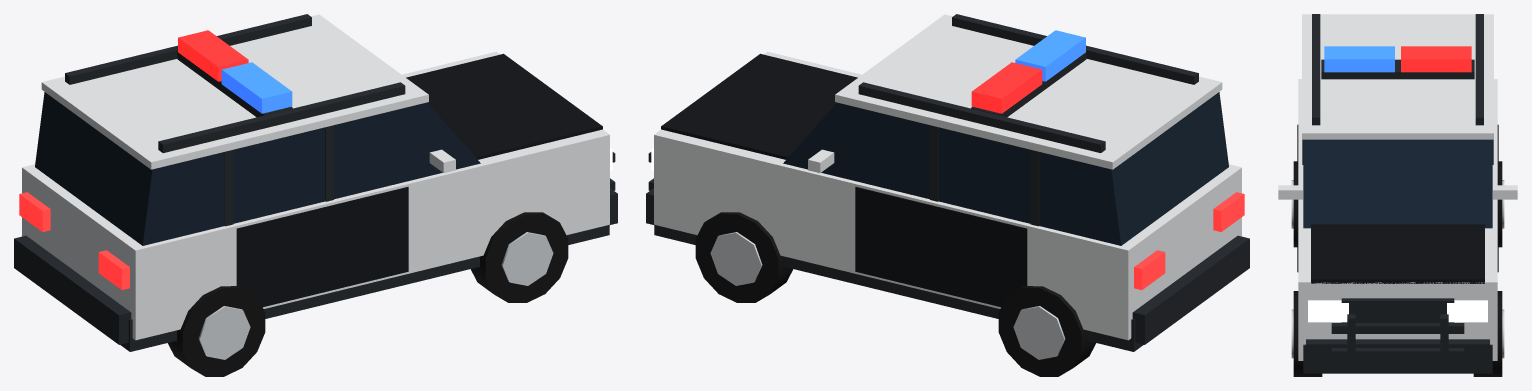
The model's file is police-suv.glb.
The picture shows the model from 3 angles, left to right: view 1: azimuth 30°, elevation 25°; view 2: azimuth 150°, elevation 25°; view 3: azimuth 270°, elevation 25°; orthographic projection. The views are drawn at different scales.
Parts seen in each view (by area): view 1: Body, Cabin, Roof, DoorPanel, Wheel (×2), HoodPanel, RoofRail (×2), Lightbar, Bumper, Skirt, Taillight (×2), Pillar (×2) (+1 smaller); view 2: Body, Cabin, Roof, DoorPanel, Wheel (×2), HoodPanel, RoofRail (×2), Lightbar, Bumper, Skirt, Taillight (×2), Pillar (×2) (+1 smaller); view 3: Roof, Cabin, HoodPanel, Body, Lightbar, Bumper, Police_SUV, Grille, Wheel (×4), RoofRail (×2), Headlight (×2), Skirt (+1 smaller).
Boxes of the visible parts, x1=… form: Body: x1=22, y1=51, x2=609, y2=340; Cabin: x1=35, y1=92, x2=480, y2=245; Roof: x1=41, y1=14, x2=428, y2=169; DoorPanel: x1=236, y1=187, x2=408, y2=306; Wheel (×2): x1=168, y1=212, x2=568, y2=376; HoodPanel: x1=406, y1=53, x2=602, y2=159; RoofRail (×2): x1=65, y1=14, x2=405, y2=152; Lightbar: x1=177, y1=30, x2=292, y2=117; Bumper: x1=14, y1=235, x2=131, y2=344; Skirt: x1=120, y1=225, x2=609, y2=351; Taillight (×2): x1=19, y1=192, x2=129, y2=289; Pillar (×2): x1=224, y1=125, x2=333, y2=226; Body: x1=654, y1=51, x2=1241, y2=340; Cabin: x1=783, y1=92, x2=1228, y2=245; Roof: x1=835, y1=14, x2=1222, y2=169; DoorPanel: x1=855, y1=187, x2=1027, y2=306; Wheel (×2): x1=695, y1=212, x2=1095, y2=376; HoodPanel: x1=661, y1=53, x2=857, y2=159; RoofRail (×2): x1=858, y1=14, x2=1198, y2=152; Lightbar: x1=971, y1=30, x2=1086, y2=117; Bumper: x1=1132, y1=235, x2=1249, y2=344; Skirt: x1=654, y1=225, x2=1143, y2=351; Taillight (×2): x1=1134, y1=192, x2=1244, y2=289; Pillar (×2): x1=930, y1=125, x2=1039, y2=226; Roof: x1=1302, y1=14, x2=1493, y2=139; Cabin: x1=1303, y1=139, x2=1492, y2=228; HoodPanel: x1=1311, y1=224, x2=1484, y2=283; Body: x1=1298, y1=79, x2=1497, y2=360; Lightbar: x1=1321, y1=46, x2=1474, y2=79; Bumper: x1=1306, y1=339, x2=1489, y2=370; Police_SUV: x1=1278, y1=185, x2=1517, y2=364; Grille: x1=1341, y1=298, x2=1454, y2=322; Wheel (×4): x1=1291, y1=161, x2=1504, y2=376; RoofRail (×2): x1=1312, y1=14, x2=1483, y2=125; Headlight (×2): x1=1308, y1=300, x2=1487, y2=322; Skirt: x1=1303, y1=344, x2=1492, y2=373.
Size of the model in its own units: 5.07 by 2.38 by 2.34.
